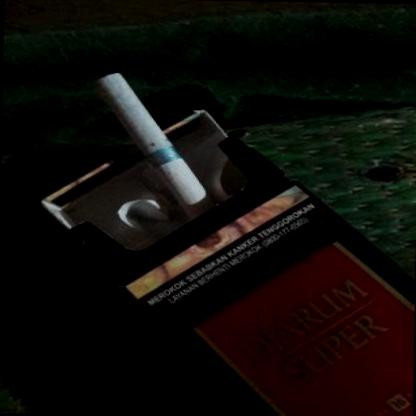objects: (126, 179, 415, 416), (96, 73, 214, 220)
